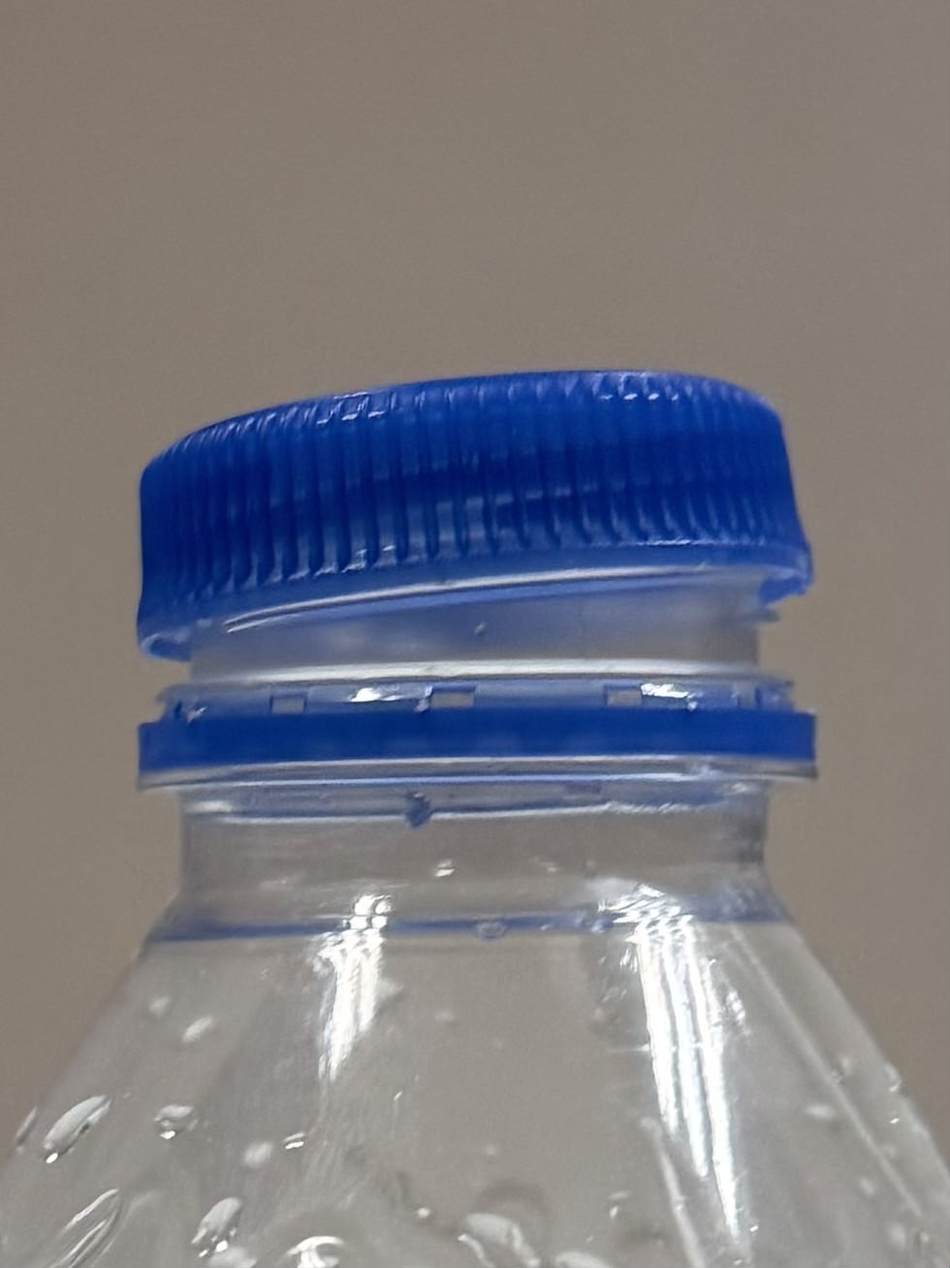half_cap: (132, 364, 816, 823)
